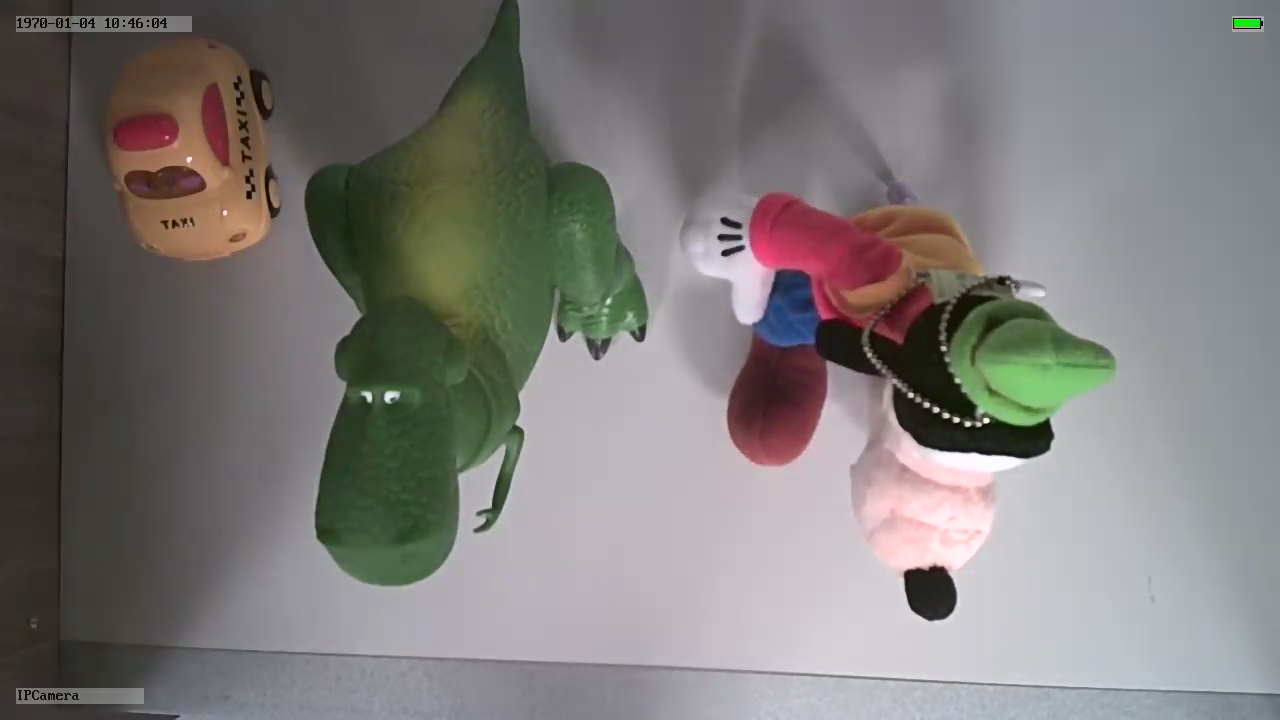goofy: (672, 182, 1118, 626)
